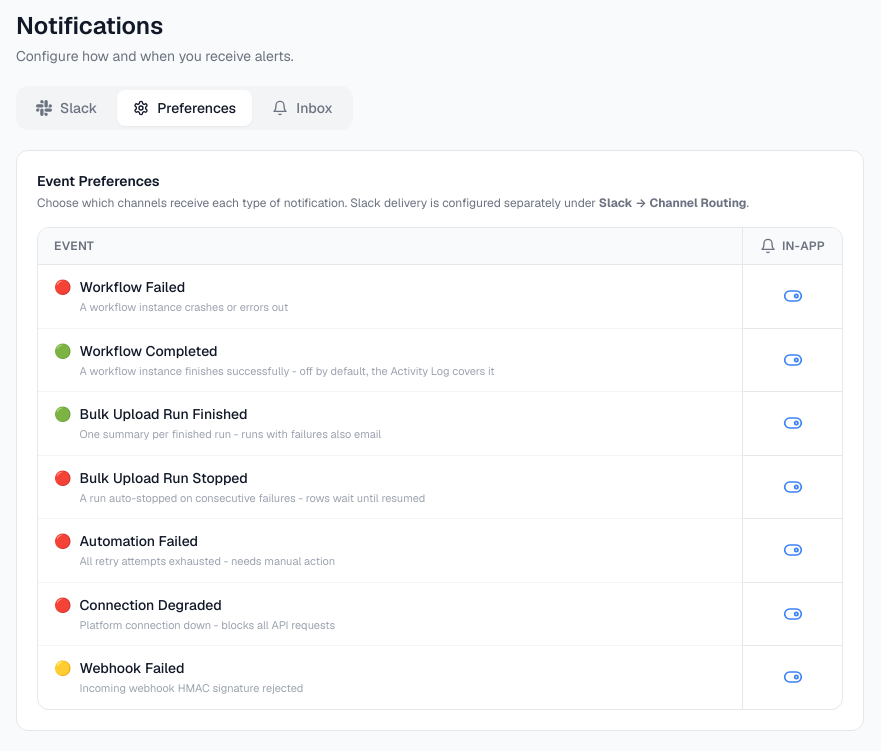
Scenario: tab navigation › switches to Inbox tab when clicked
This screenshot has width=881, height=751.
What coordinates should you click on to do the following:
click the button "Inbox"
I would click on:
 (302, 108)
Its box is [256,90,349,126].
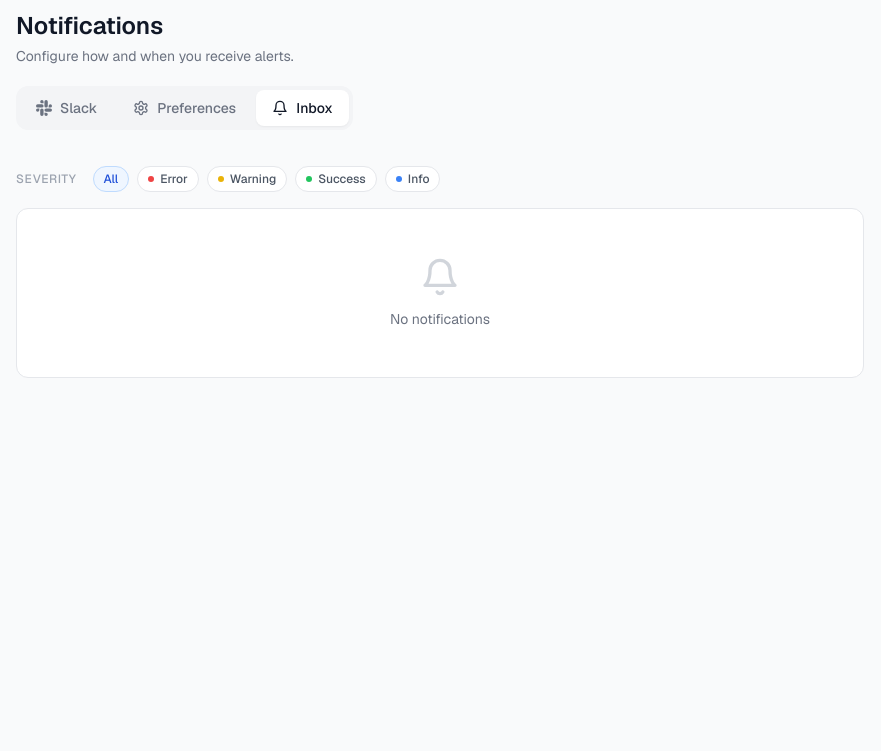
Expected: the text "Severity" is shown, [16,171,77,187]
